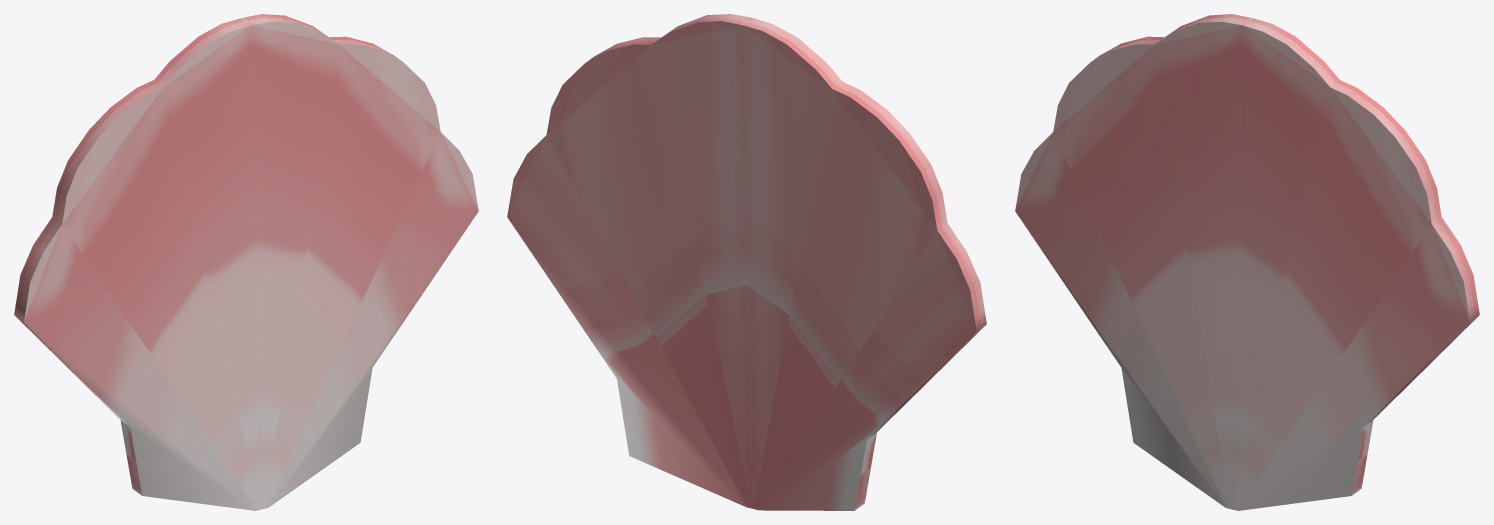
Rendered from Shell2.fbx.
The picture shows the model from 3 angles, left to right: view 1: azimuth 30°, elevation 25°; view 2: azimuth 150°, elevation 25°; view 3: azimuth 330°, elevation 25°; orthographic projection. The views are drawn at different scales.
Parts seen in each view (by area): view 1: Box002; view 2: Box002; view 3: Box002.
Part boxes in pixels (x1=…): Box002: x1=14, y1=14, x2=478, y2=510; Box002: x1=507, y1=14, x2=986, y2=510; Box002: x1=1015, y1=14, x2=1479, y2=510.
Bounding box in the file's own units: 32.94 × 32.96 × 2.57.
1 material, 1 textured.
